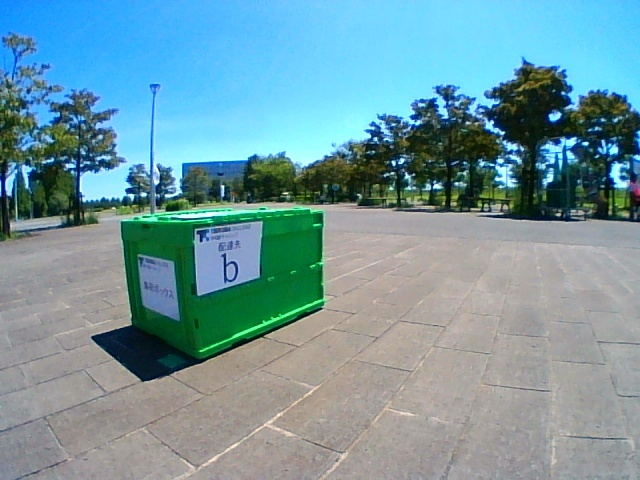green_box: (121, 207, 324, 359)
tag_b: (204, 229, 242, 286)
